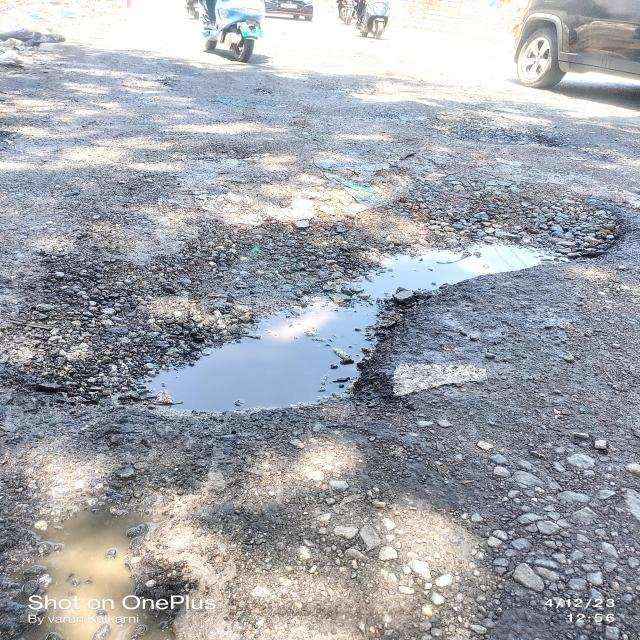Puddle pothole: (31, 238, 572, 409)
